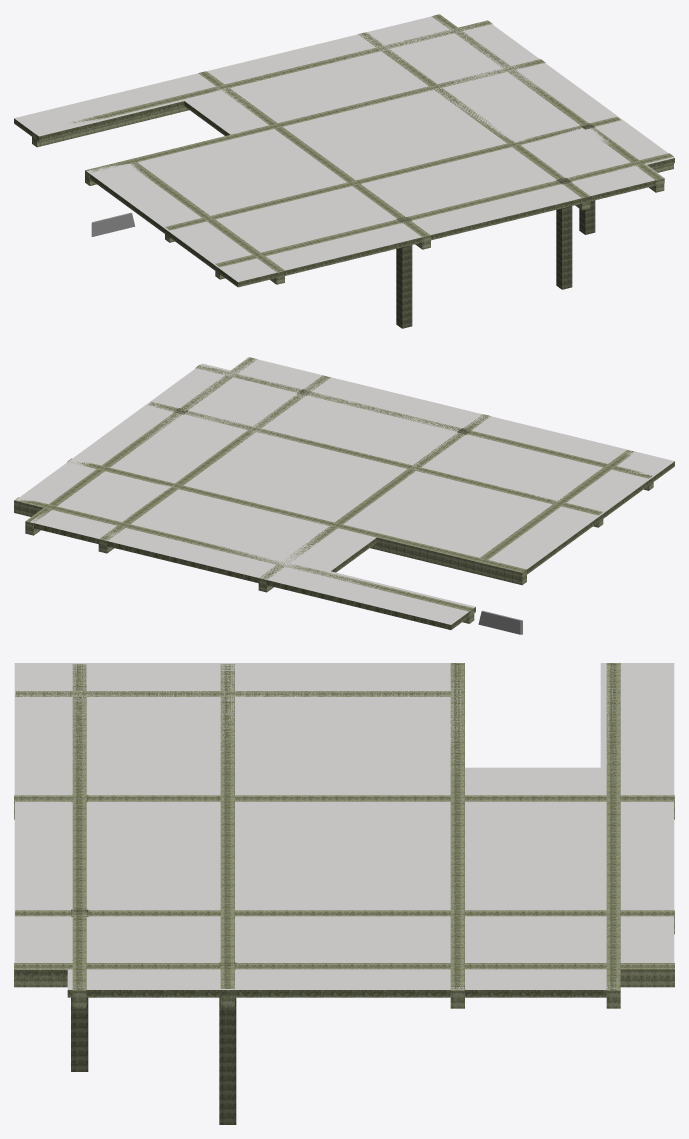
3 views of the same model, one above another, from view 1: azimuth 30°, elevation 25°; view 2: azimuth 150°, elevation 25°; view 3: azimuth 270°, elevation 25° (orthographic). The views are drawn at different scales.
Parts seen in each view (by area): view 1: Floor Floor-Grnd-Susp_65Scr-80Ins-100Blk-75PC [631870]001, Concrete - Rectangular Beam 250 x 350 mm [654611]001, Concrete - Rectangular Beam 250 x 350 mm [654184]001, Concrete - Rectangular Beam 250 x 350 mm [654478]001, Concrete - Rectangular Beam 250 x 350 mm [654287]001, Concrete - Rectangular Beam 250 x 350 mm [654818]001, Concrete - Rectangular Beam 250 x 350 mm [654977]001, Concrete - Rectangular Beam 250 x 350 mm [654899]001, Columns_Rectangular 300 x 300 mm [646599]001, Columns_Rectangular 300 x 300 mm [646252]001, Concrete - Rectangular Beam 250 x 350 mm [654121]001, Assembled Stair Stair [630597]_[636881]001 (+1 smaller); view 2: Floor Floor-Grnd-Susp_65Scr-80Ins-100Blk-75PC [631870]001, Concrete - Rectangular Beam 250 x 350 mm [654478]001, Concrete - Rectangular Beam 250 x 350 mm [654611]001, Concrete - Rectangular Beam 250 x 350 mm [654287]001, Concrete - Rectangular Beam 250 x 350 mm [654184]001, Concrete - Rectangular Beam 250 x 350 mm [654899]001, Concrete - Rectangular Beam 250 x 350 mm [654977]001, Concrete - Rectangular Beam 250 x 350 mm [654818]001, Concrete - Rectangular Beam 250 x 350 mm [654121]001, Assembled Stair Stair [630597]_[636881]001; view 3: Floor Floor-Grnd-Susp_65Scr-80Ins-100Blk-75PC [631870]001, Concrete - Rectangular Beam 250 x 350 mm [654977]001, Concrete - Rectangular Beam 250 x 350 mm [654611]001, Concrete - Rectangular Beam 250 x 350 mm [654478]001, Concrete - Rectangular Beam 250 x 350 mm [654184]001, Concrete - Rectangular Beam 250 x 350 mm [654287]001, Concrete - Rectangular Beam 250 x 350 mm [654818]001, Concrete - Rectangular Beam 250 x 350 mm [654899]001, Concrete - Rectangular Beam 250 x 350 mm [654121]001, Columns_Rectangular 300 x 300 mm [646169]001, Columns_Rectangular 300 x 300 mm [646599]001.
Boxes of the visible parts, x1,y1,x2,y2 form: Floor Floor-Grnd-Susp_65Scr-80Ins-100Blk-75PC [631870]001: (14,16,674,287); Concrete - Rectangular Beam 250 x 350 mm [654611]001: (32,20,492,147); Concrete - Rectangular Beam 250 x 350 mm [654184]001: (215,153,673,279); Concrete - Rectangular Beam 250 x 350 mm [654478]001: (85,59,545,185); Concrete - Rectangular Beam 250 x 350 mm [654287]001: (165,117,621,242); Concrete - Rectangular Beam 250 x 350 mm [654818]001: (198,71,430,249); Concrete - Rectangular Beam 250 x 350 mm [654977]001: (432,14,664,192); Concrete - Rectangular Beam 250 x 350 mm [654899]001: (358,32,590,210); Columns_Rectangular 300 x 300 mm [646599]001: (556,178,572,289); Columns_Rectangular 300 x 300 mm [646252]001: (396,217,412,328); Concrete - Rectangular Beam 250 x 350 mm [654121]001: (132,162,284,284); Assembled Stair Stair [630597]_[636881]001: (91,212,135,236); Floor Floor-Grnd-Susp_65Scr-80Ins-100Blk-75PC [631870]001: (16,357,674,629); Concrete - Rectangular Beam 250 x 350 mm [654478]001: (67,458,526,585); Concrete - Rectangular Beam 250 x 350 mm [654611]001: (14,497,474,623); Concrete - Rectangular Beam 250 x 350 mm [654287]001: (148,402,603,527); Concrete - Rectangular Beam 250 x 350 mm [654184]001: (195,364,653,490); Concrete - Rectangular Beam 250 x 350 mm [654899]001: (98,375,330,553); Concrete - Rectangular Beam 250 x 350 mm [654977]001: (25,357,257,535); Concrete - Rectangular Beam 250 x 350 mm [654818]001: (258,414,490,592); Concrete - Rectangular Beam 250 x 350 mm [654121]001: (480,450,635,559); Assembled Stair Stair [630597]_[636881]001: (478,610,522,634); Floor Floor-Grnd-Susp_65Scr-80Ins-100Blk-75PC [631870]001: (14,663,674,997); Concrete - Rectangular Beam 250 x 350 mm [654977]001: (14,963,674,987); Concrete - Rectangular Beam 250 x 350 mm [654611]001: (606,663,620,1008); Concrete - Rectangular Beam 250 x 350 mm [654478]001: (450,663,464,1008); Concrete - Rectangular Beam 250 x 350 mm [654184]001: (72,664,86,1008); Concrete - Rectangular Beam 250 x 350 mm [654287]001: (220,664,234,1007); Concrete - Rectangular Beam 250 x 350 mm [654818]001: (14,795,674,819); Concrete - Rectangular Beam 250 x 350 mm [654899]001: (15,910,674,934); Concrete - Rectangular Beam 250 x 350 mm [654121]001: (15,691,450,696); Columns_Rectangular 300 x 300 mm [646169]001: (219,962,236,1124); Columns_Rectangular 300 x 300 mm [646599]001: (71,909,88,1071).
Size of the model in its own units: 13.58 by 3 by 11.58.
Materials: 5 (3 with a texture image).
